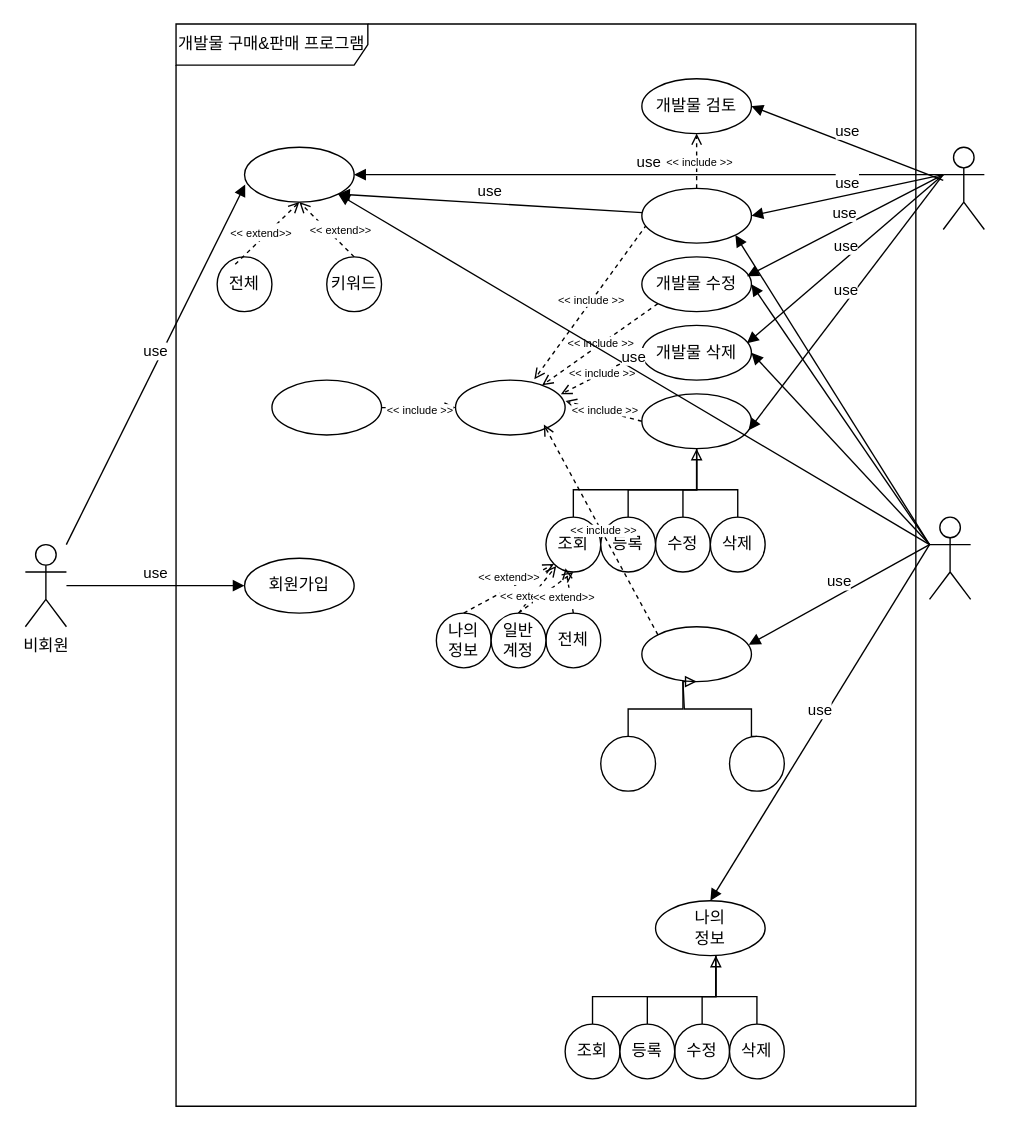
Image size: 1010x1130. Some labels were removed from this diagram. The shapes that lost their labels are listed below. From the top down, each one's centre as x and y in pixels, then its label:
(298,174): 개발물 조회
(963,187): 관리자
(695,215): 개발물 등록
(326,407): 로그아웃
(509,407): 로그인
(695,421): 회원관리
(949,557): 회원
(695,653): 결제서비스
(627,763): 구매
(756,763): 판매
